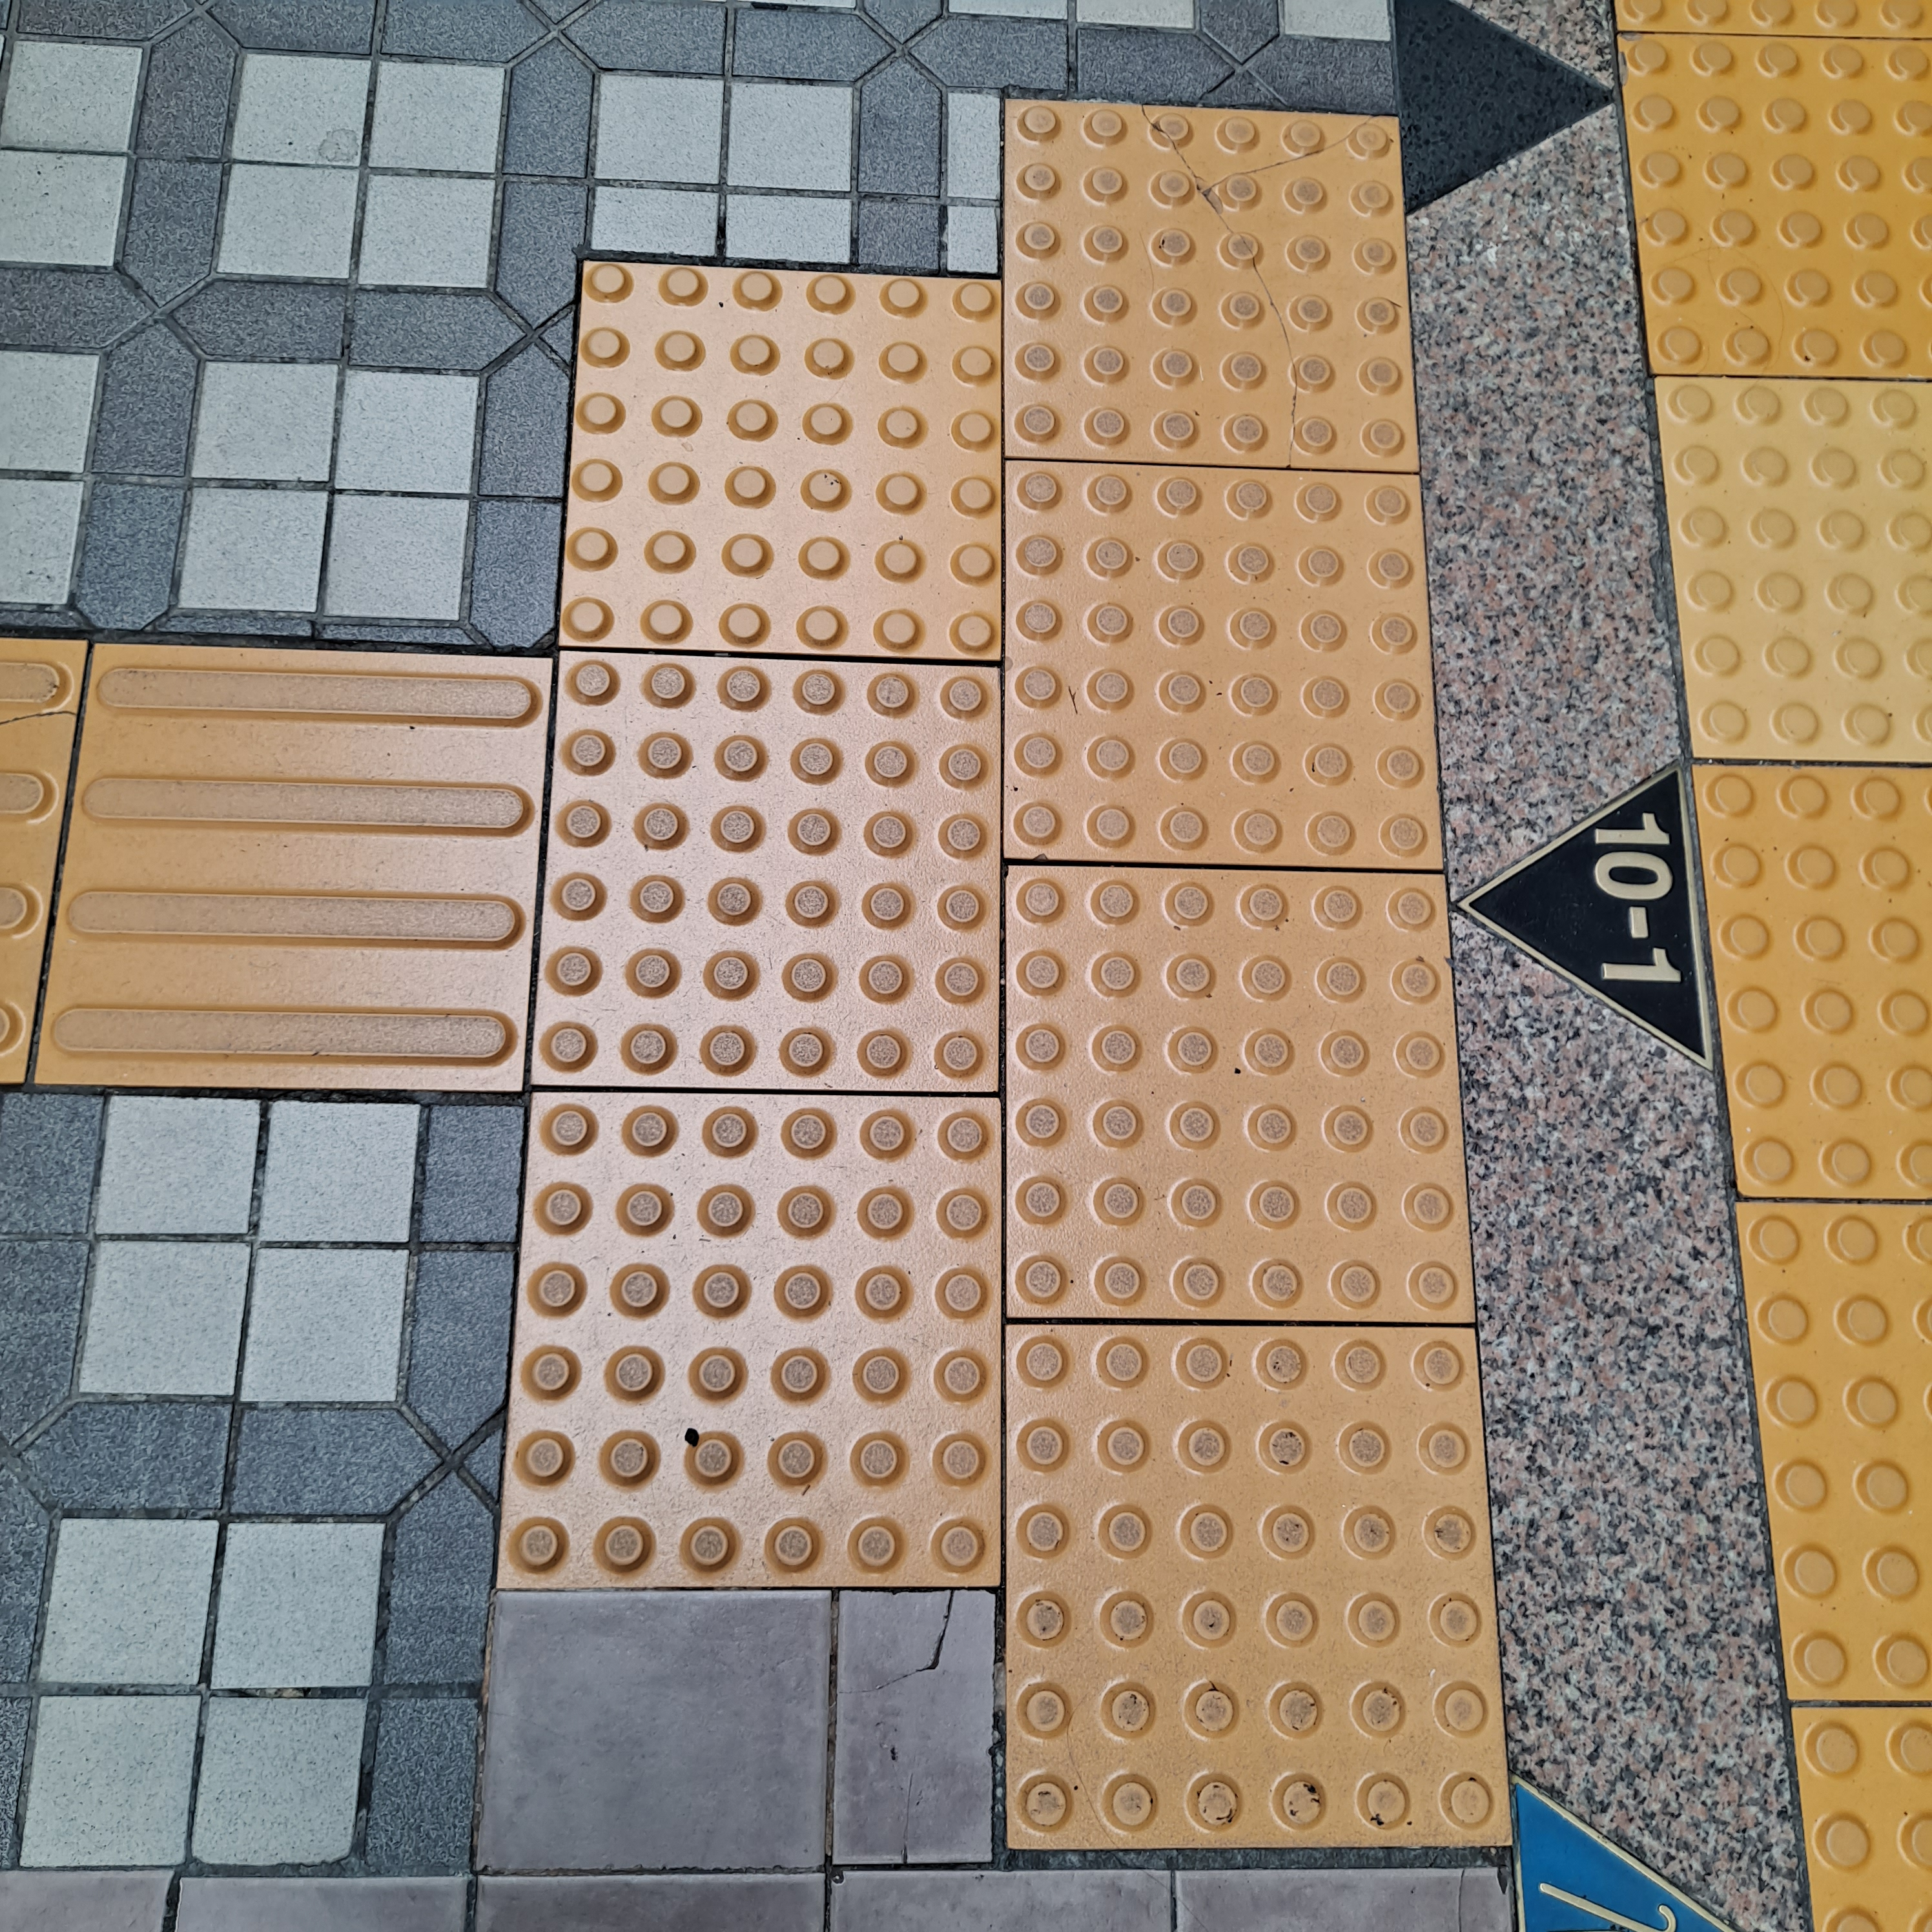guideBlock: (87, 649, 533, 1085)
warningBlock: (993, 1295, 1506, 1840), (524, 1083, 1031, 1585), (547, 616, 1005, 1093), (1001, 862, 1447, 1323), (594, 276, 1007, 665), (1037, 453, 1401, 851), (1005, 115, 1380, 442)
